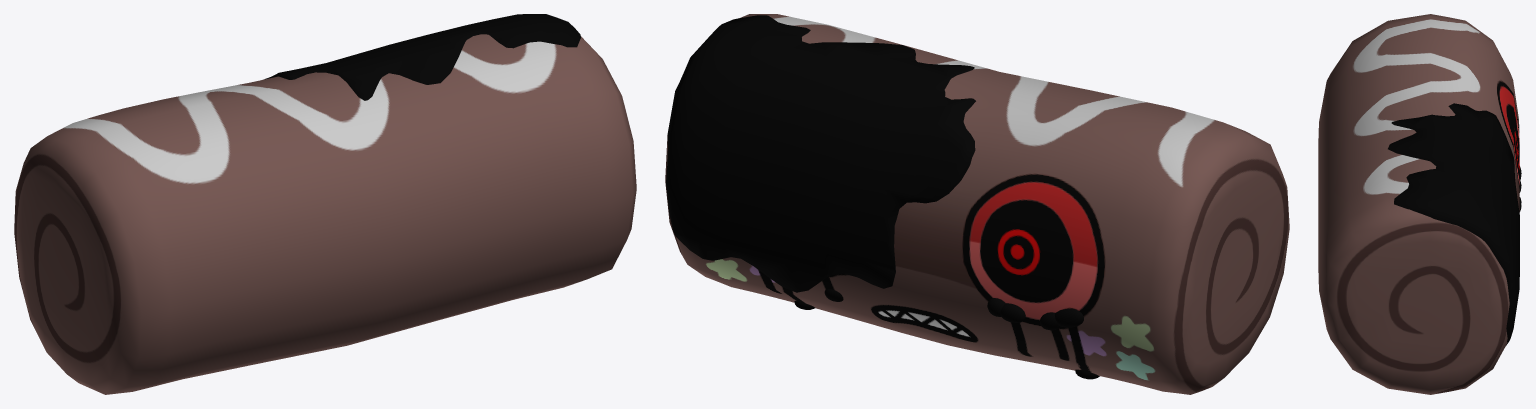
File: Twisted Cosmo.glb
3 renders of one model, left to right at view 1: azimuth 30°, elevation 25°; view 2: azimuth 150°, elevation 25°; view 3: azimuth 270°, elevation 25°, orthographic. The views are drawn at different scales.
Visible parts, largest first — view 1: Twisted Cosmo; view 2: Twisted Cosmo; view 3: Twisted Cosmo.
Part boxes in pixels (left/top/right/bottom): Twisted Cosmo: left=14, top=14, right=636, bottom=394; Twisted Cosmo: left=665, top=14, right=1289, bottom=394; Twisted Cosmo: left=1318, top=14, right=1521, bottom=394.
Bounding box in the file's own units: 4.84 × 2.28 × 2.05.
1 material, 1 textured.
